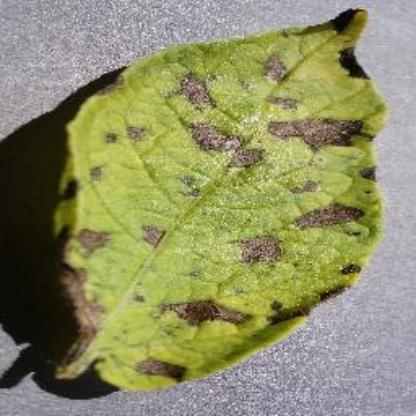Early-Blight: (39, 4, 415, 394)
